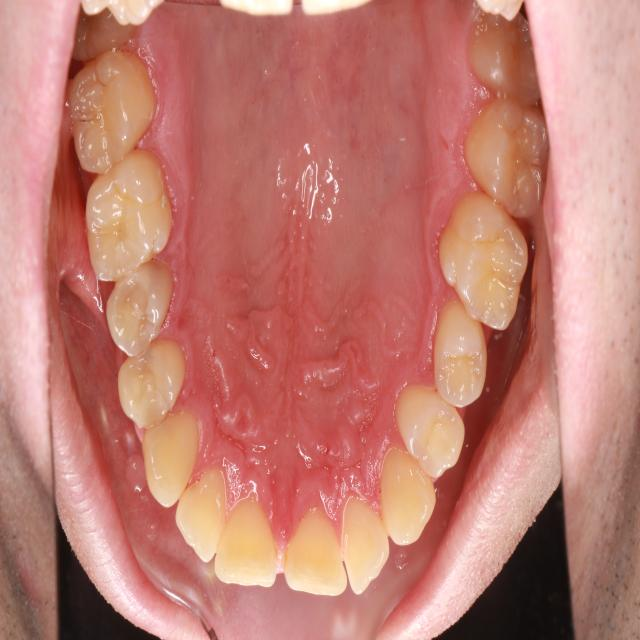tooth: (429, 176, 536, 355), (77, 133, 185, 297), (58, 43, 173, 190), (462, 75, 558, 220), (98, 252, 182, 374), (109, 325, 192, 439), (128, 409, 212, 520), (275, 498, 357, 609), (394, 374, 474, 486), (426, 299, 496, 422), (375, 433, 441, 563), (462, 14, 547, 109), (211, 497, 279, 610), (173, 457, 230, 573), (339, 490, 395, 606), (63, 7, 148, 73)
